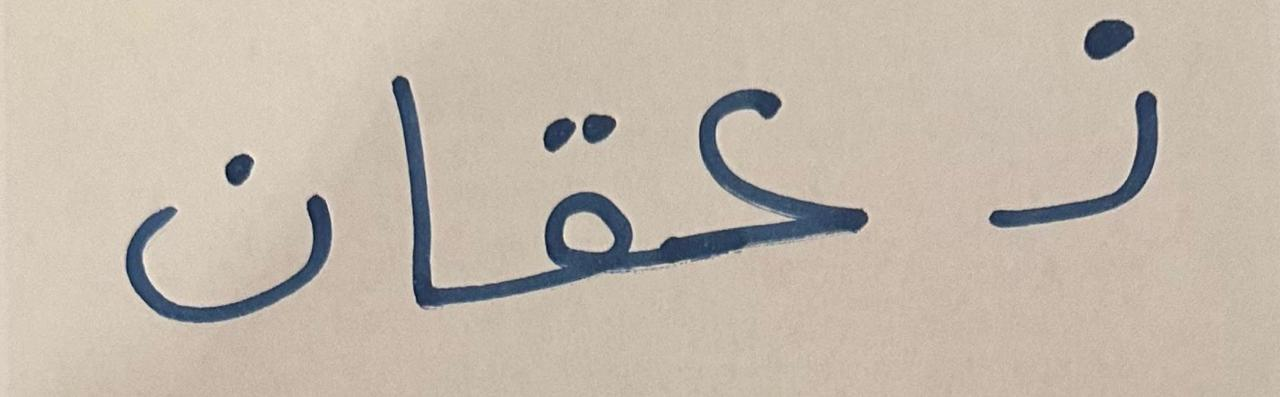ain: (917, 4, 1239, 290), (670, 12, 914, 313)
alef: (357, 26, 456, 333)
qaf: (85, 59, 352, 355)
reh: (461, 52, 666, 312)
